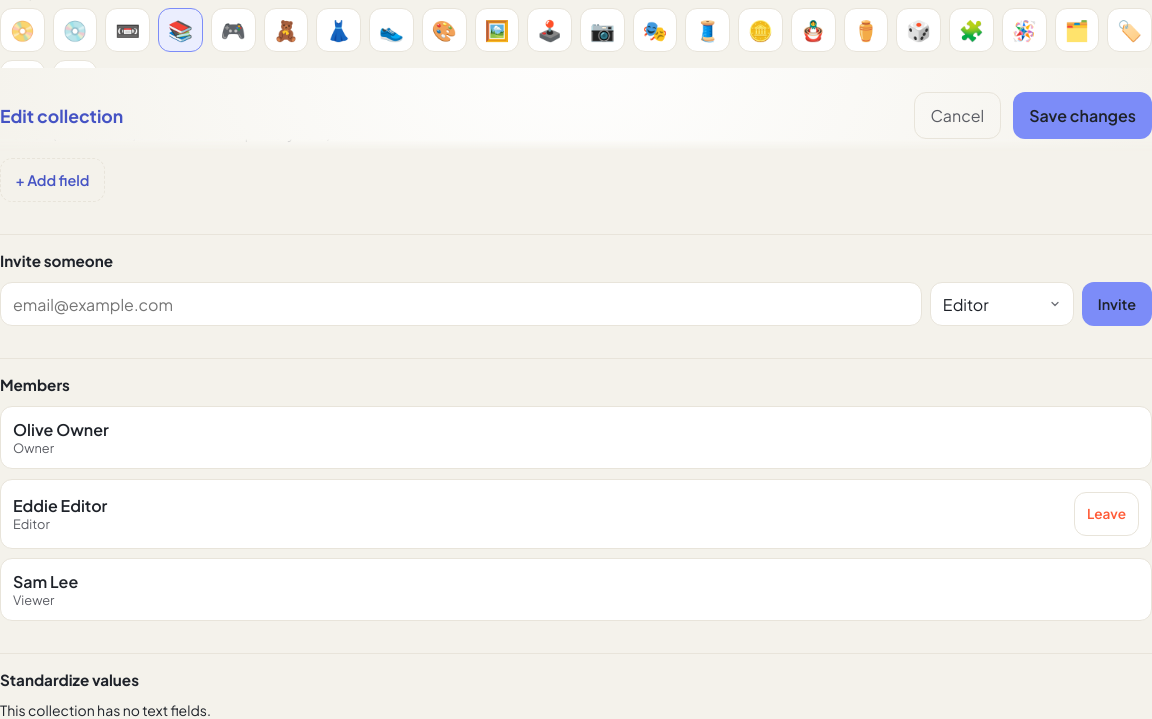
Test: Admin member removal › asks before a member leaves and does not remove until confirmed
This screenshot has width=1152, height=719.
(page scrolled)
Click the button "Leave" at (1106, 514), box [1074,492,1139,536]
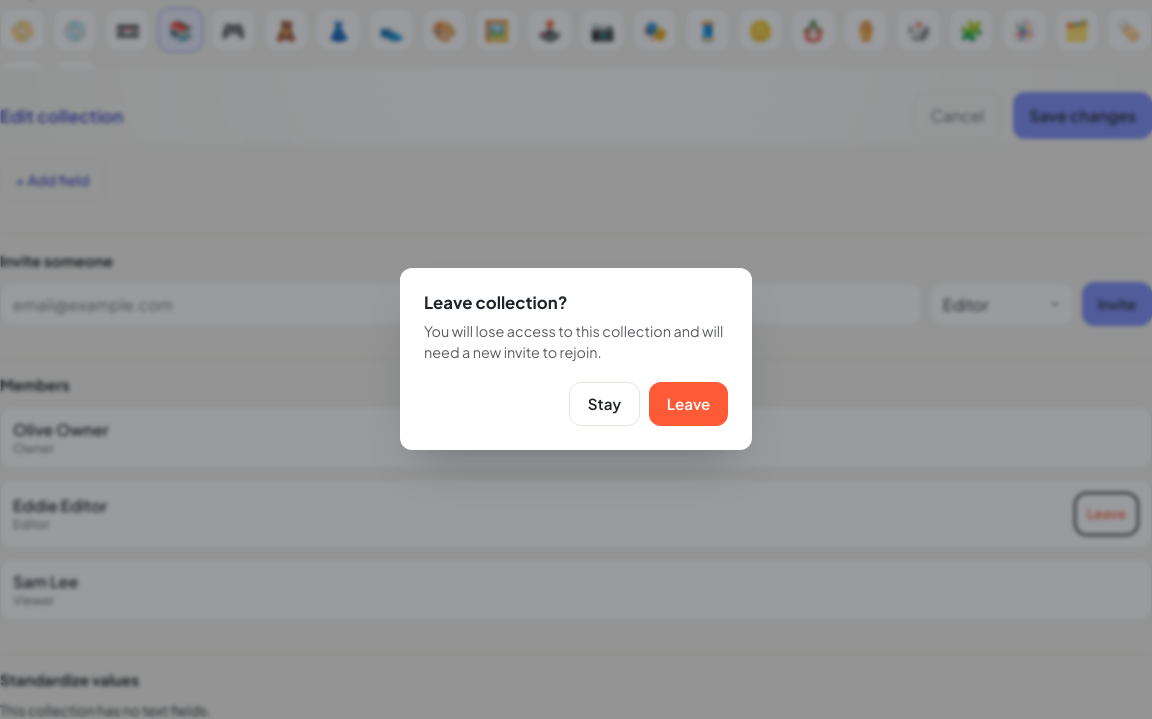
Check: the heading "Leave collection?" is shown, box [424,292,567,313]
